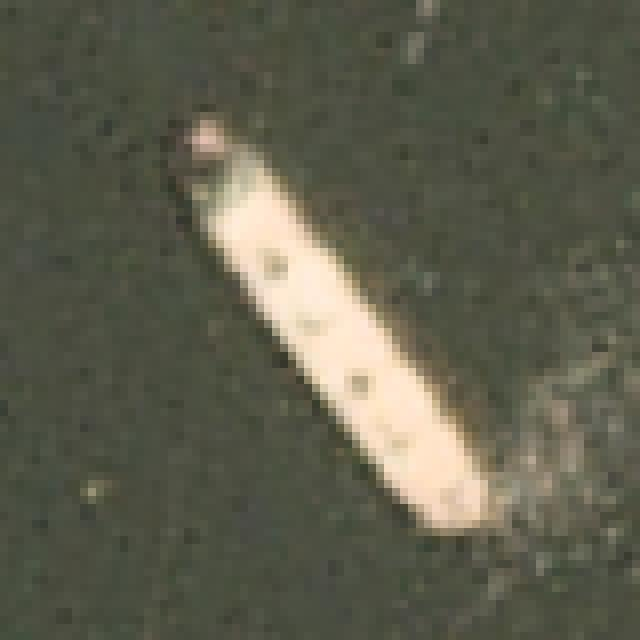ship: (157, 61, 525, 575)
